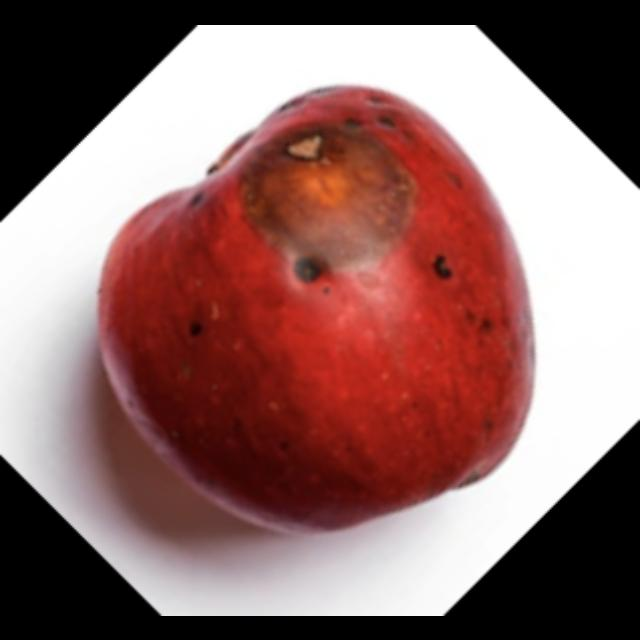Apel Tidak Segar: (87, 74, 543, 544)
